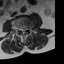CCS_normal: (22, 26, 24, 35)
LFS_stenosis: (26, 25, 28, 31)
LLS_stenosis: (24, 26, 26, 34)
RFS_normal: (18, 26, 20, 32)
RLS_normal: (20, 26, 22, 33)
